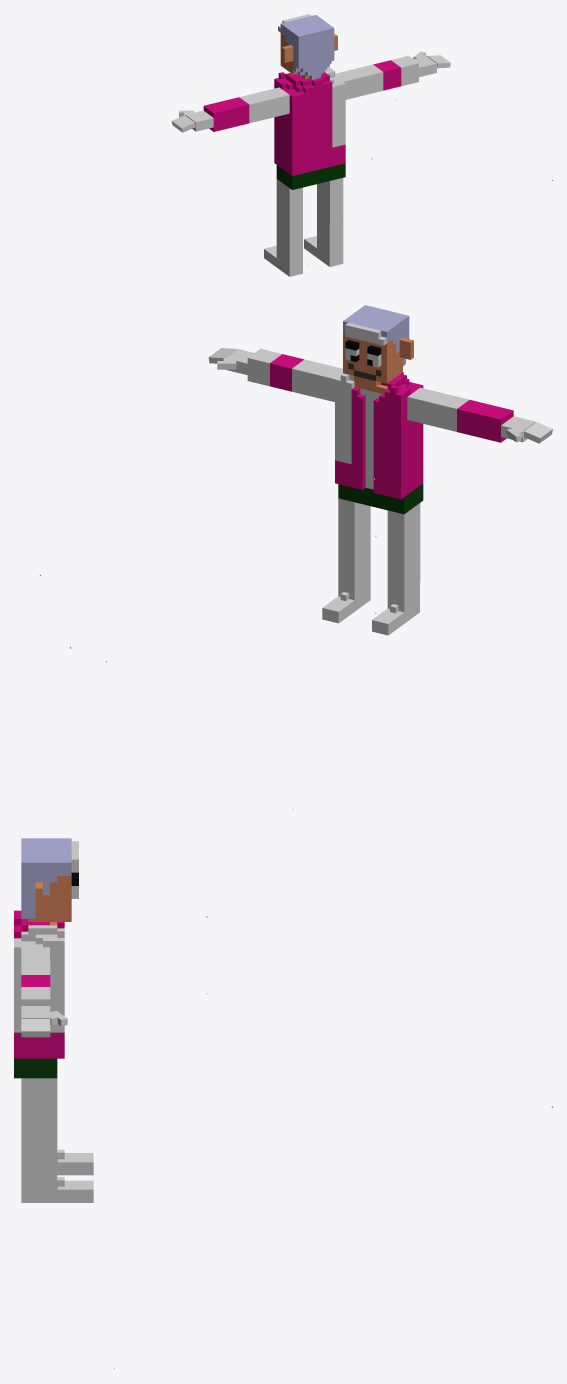
The model's file is Audience 2.fbx.
The picture shows the model from 3 angles, top to bottom: view 1: azimuth 30°, elevation 25°; view 2: azimuth 150°, elevation 25°; view 3: azimuth 270°, elevation 25°; orthographic projection. The views are drawn at different scales.
Visible parts, largest first — view 1: Chunk__2_2_2__2, Chunk__2_1_2_, Chunk__2_1_2__1, Chunk__2_2_2__13, Chunk__2_3_2__13, Chunk__1_2_2__3, Chunk__3_2_2__9, Chunk__1_0_2__19, Chunk__2_0_2__15, Chunk__2_2_2__8, Chunk__2_0_2__14, Chunk__1_0_2__18 (+9 smaller); view 2: Chunk__2_2_2__2, Chunk__2_1_2_, Chunk__2_1_2__1, Chunk__2_2_2__13, Chunk__3_2_2__9, Chunk__1_2_2__3, Chunk__2_0_2__15, Chunk__1_0_2__19, Chunk__2_3_2__13, Chunk__2_2_2__8, Chunk__2_0_2__14, Chunk__1_0_2__18 (+6 smaller); view 3: Chunk__1_1_2_, Chunk__1_2_2__2, Chunk__1_0_2__19, Chunk__1_2_2__13, Chunk__1_0_2__18, Chunk__1_3_2__13, Chunk__2_3_2__13, Chunk__1_0_2__20, Chunk__1_2_2__3, Chunk__1_1_2__18, Chunk__1_1_2__1.
Part boxes in pixels (bbox=[...]): Chunk__2_2_2__2: bbox=[274, 72, 332, 129]; Chunk__2_1_2_: bbox=[274, 144, 332, 189]; Chunk__2_1_2__1: bbox=[274, 117, 332, 157]; Chunk__2_2_2__13: bbox=[280, 38, 329, 79]; Chunk__2_3_2__13: bbox=[280, 16, 329, 50]; Chunk__1_2_2__3: bbox=[335, 64, 383, 99]; Chunk__3_2_2__9: bbox=[203, 97, 249, 131]; Chunk__1_0_2__19: bbox=[317, 211, 343, 257]; Chunk__2_0_2__15: bbox=[276, 221, 302, 267]; Chunk__2_2_2__8: bbox=[248, 87, 289, 120]; Chunk__2_0_2__14: bbox=[276, 193, 302, 230]; Chunk__1_0_2__18: bbox=[317, 184, 343, 220]; Chunk__2_2_2__2: bbox=[351, 372, 423, 441]; Chunk__2_1_2_: bbox=[351, 460, 423, 514]; Chunk__2_1_2__1: bbox=[351, 426, 423, 476]; Chunk__2_2_2__13: bbox=[348, 333, 413, 392]; Chunk__3_2_2__9: bbox=[457, 400, 513, 442]; Chunk__1_2_2__3: bbox=[292, 359, 342, 401]; Chunk__2_0_2__15: bbox=[387, 555, 420, 612]; Chunk__1_0_2__19: bbox=[338, 543, 370, 600]; Chunk__2_3_2__13: bbox=[348, 306, 409, 349]; Chunk__2_2_2__8: bbox=[407, 387, 458, 429]; Chunk__2_0_2__14: bbox=[387, 520, 420, 565]; Chunk__1_0_2__18: bbox=[338, 508, 370, 553]; Chunk__1_1_2_: bbox=[14, 1032, 64, 1078]; Chunk__1_2_2__2: bbox=[14, 925, 64, 993]; Chunk__1_0_2__19: bbox=[21, 1137, 57, 1189]; Chunk__1_2_2__13: bbox=[21, 882, 71, 921]; Chunk__1_0_2__18: bbox=[21, 1098, 57, 1137]; Chunk__1_3_2__13: bbox=[21, 859, 71, 882]; Chunk__2_3_2__13: bbox=[21, 838, 71, 859]; Chunk__1_0_2__20: bbox=[21, 1177, 71, 1202]; Chunk__1_2_2__3: bbox=[21, 947, 50, 974]; Chunk__1_1_2__18: bbox=[21, 1078, 57, 1097]; Chunk__1_1_2__1: bbox=[14, 993, 64, 1032].
Size of the model in its own units: 905 by 520 by 746.
